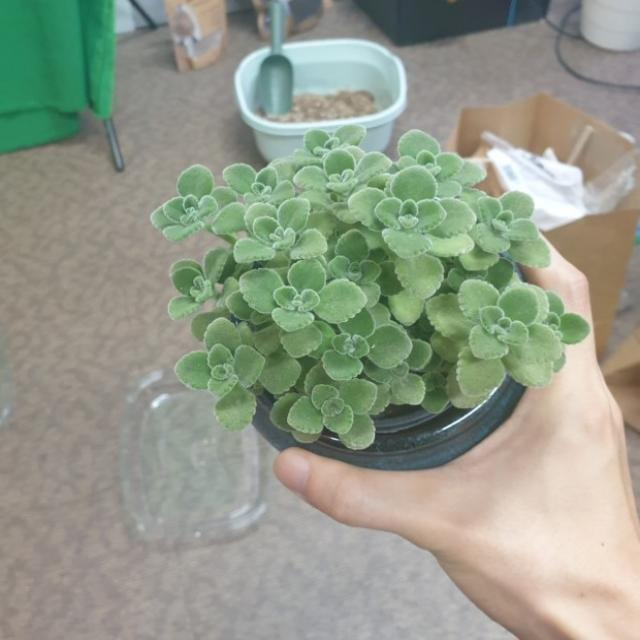Vicks: (427, 279, 589, 398), (348, 165, 476, 298), (239, 259, 366, 357), (175, 317, 265, 431), (270, 364, 377, 449), (151, 165, 236, 241), (236, 197, 328, 262), (293, 147, 391, 201), (169, 250, 239, 319)
